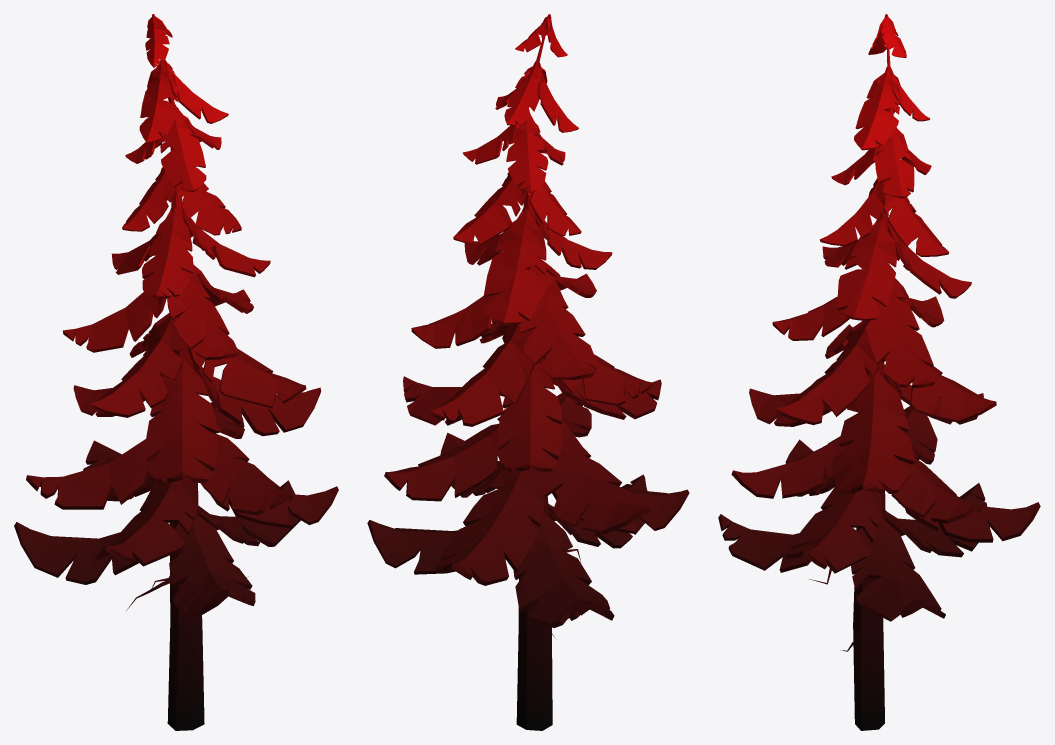
File: TreeSpruce01.fbx
The picture shows the model from 3 angles, left to right: view 1: azimuth 30°, elevation 25°; view 2: azimuth 150°, elevation 25°; view 3: azimuth 270°, elevation 25°; orthographic projection. The views are drawn at different scales.
Parts seen in each view (by area): view 1: TreeSpruce01_LOD0; view 2: TreeSpruce01_LOD0; view 3: TreeSpruce01_LOD0.
Boxes of the visible parts, x1,y1,x2,y2 form: TreeSpruce01_LOD0: [14, 14, 338, 730]; TreeSpruce01_LOD0: [367, 14, 689, 730]; TreeSpruce01_LOD0: [718, 14, 1040, 730].
Size of what is drawn, in the model's own units: 174 by 438 by 183.
